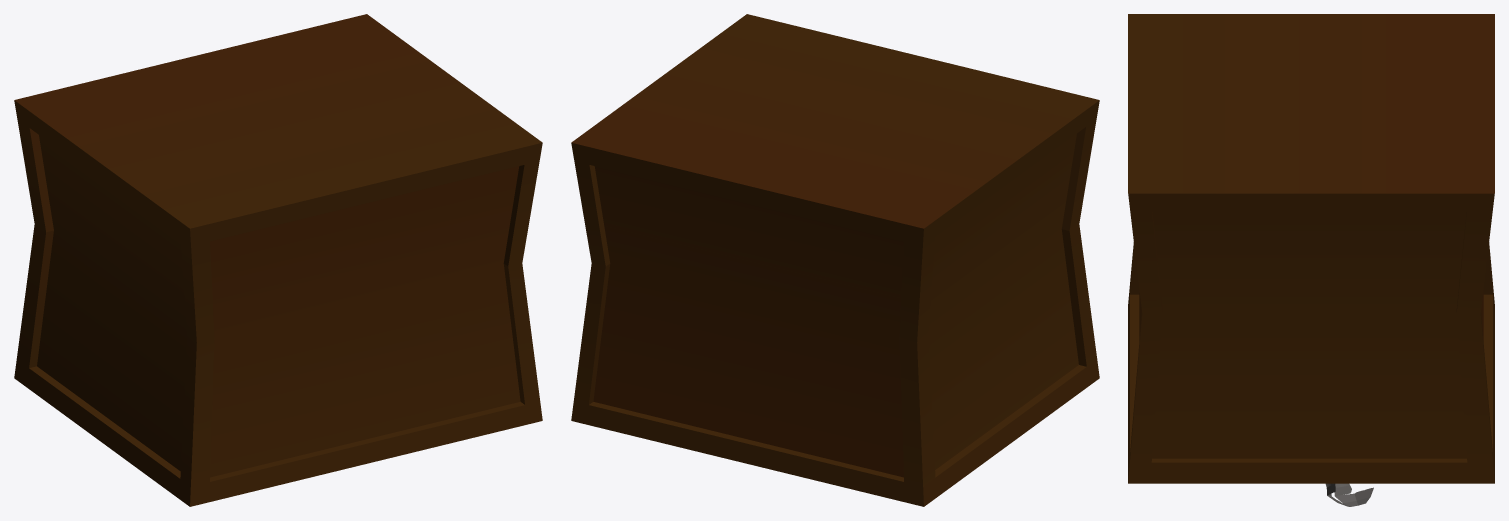
The model's file is amunicja.obj.
The picture shows the model from 3 angles, left to right: view 1: azimuth 30°, elevation 25°; view 2: azimuth 150°, elevation 25°; view 3: azimuth 270°, elevation 25°; orthographic projection. The views are drawn at different scales.
Parts seen in each view (by area): view 1: Box002; view 2: Box002; view 3: Box002.
Boxes of the visible parts, <box> form: Box002: <box>14,14,542,506</box>; Box002: <box>571,14,1099,506</box>; Box002: <box>1128,14,1494,506</box>.
Size of the model in its own units: 45.39 by 38.17 by 39.18.
